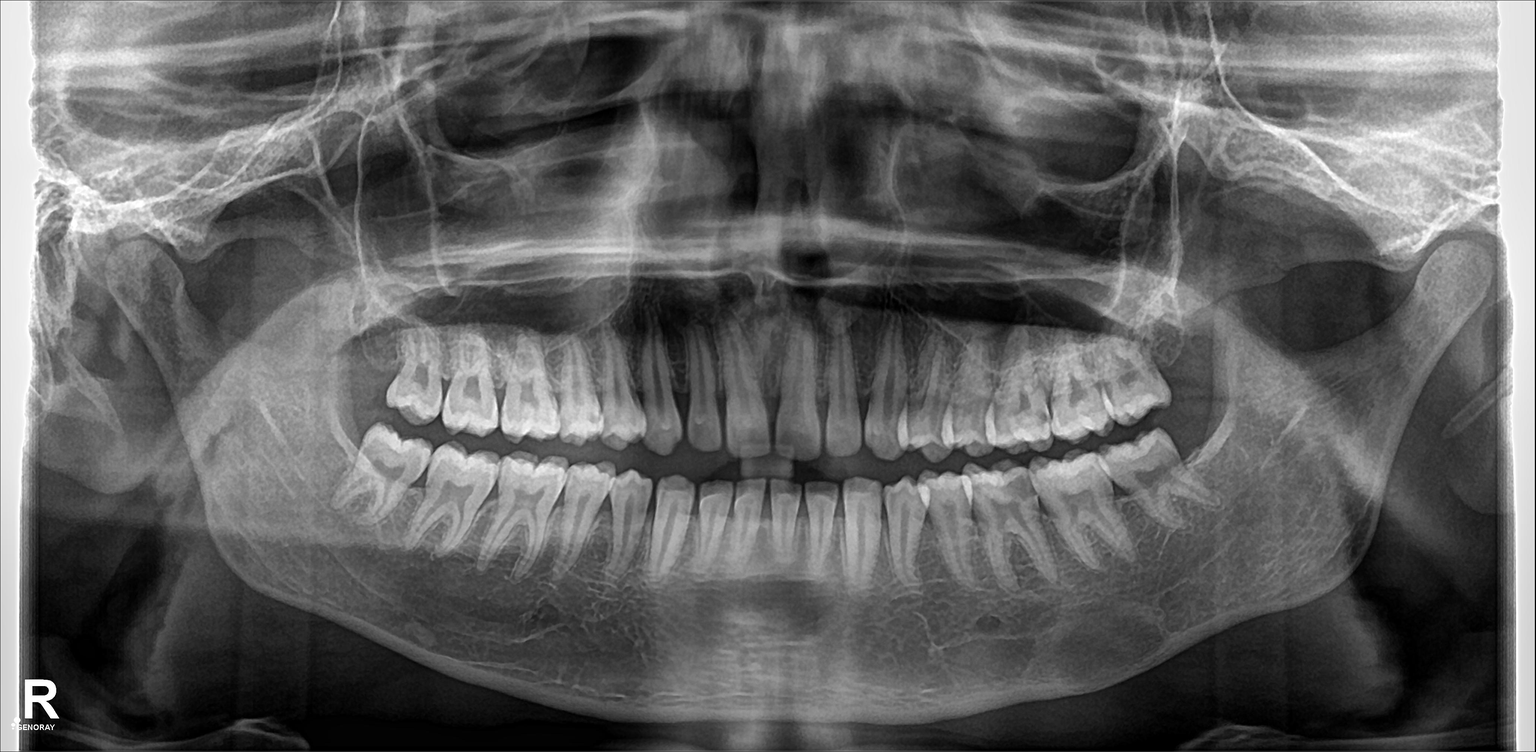Missing Tooth: (328, 324, 393, 417), (1151, 322, 1199, 389), (1181, 417, 1229, 484)
